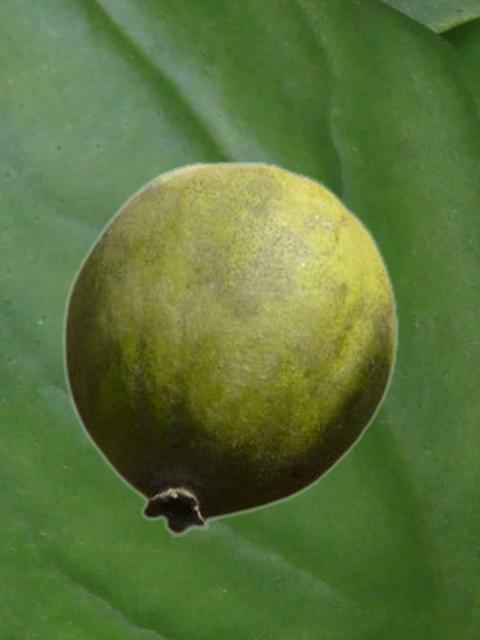guava: (61, 160, 399, 535)
